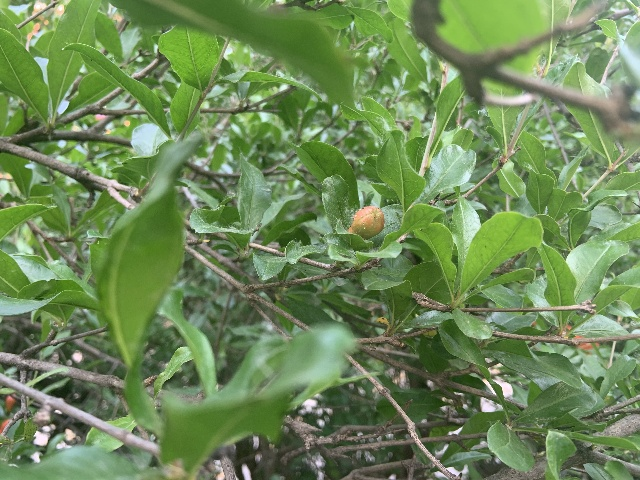bud: (348, 205, 385, 240)
